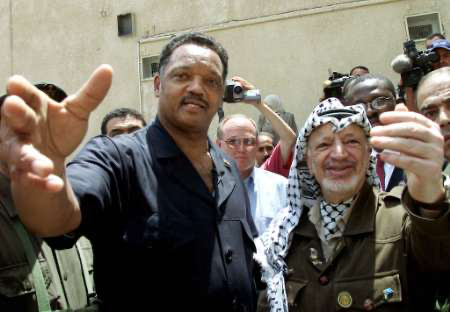Face: (161, 44, 221, 125), (310, 121, 372, 191), (417, 79, 449, 159), (216, 119, 261, 173), (346, 84, 396, 128), (257, 134, 273, 165)
